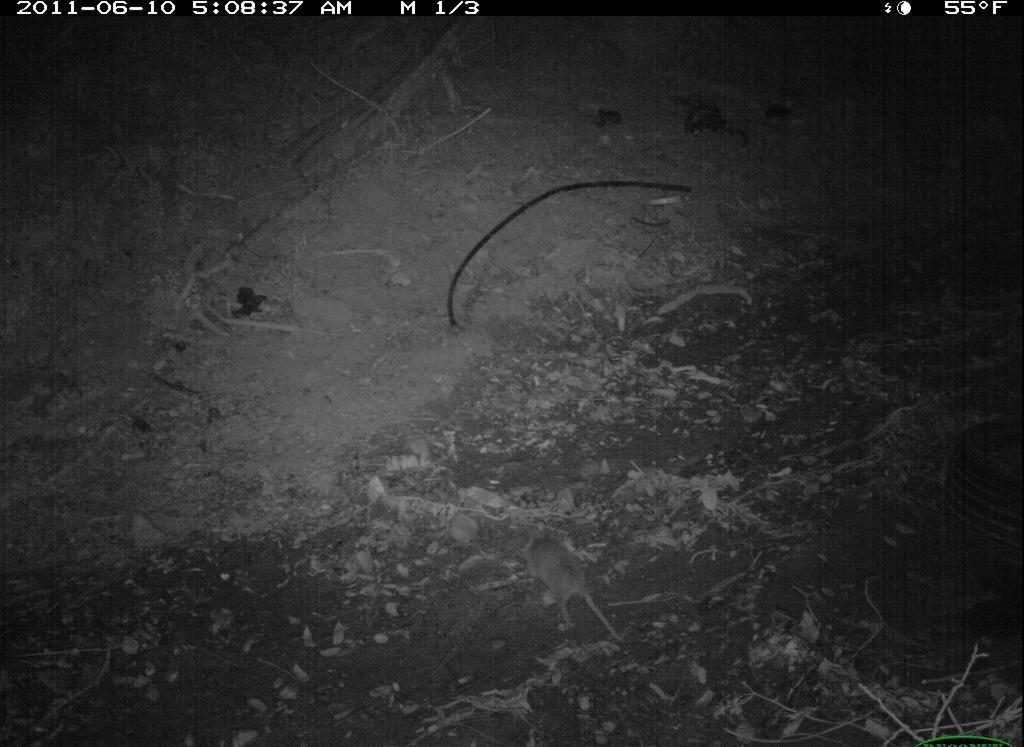opossum: (516, 515, 635, 657)
